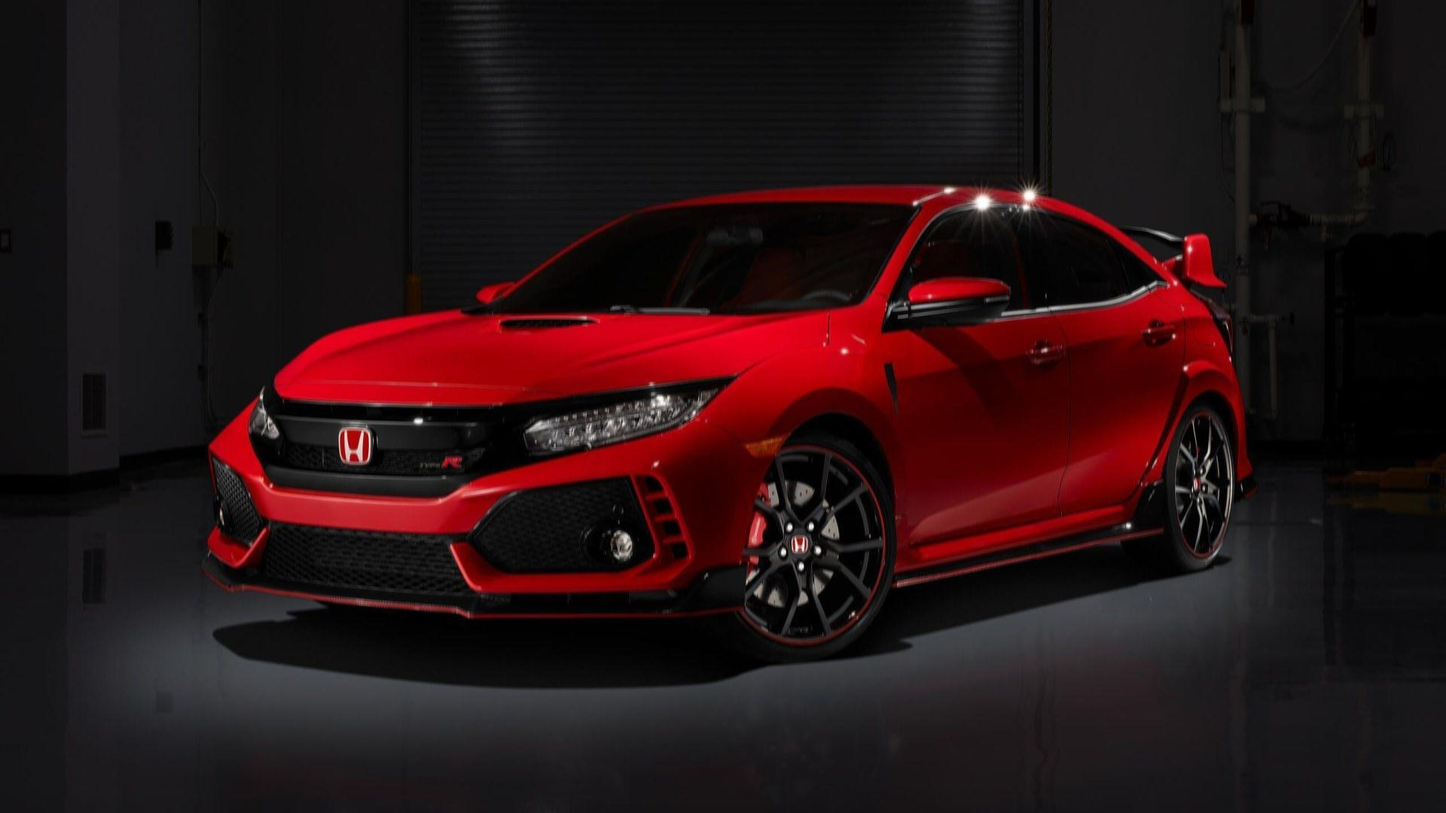Car hood: (267, 300, 836, 412)
Fender - -F-L-: (694, 293, 907, 586)
Fender - -R-L-: (1157, 297, 1237, 517)
Front bumper: (197, 433, 763, 639)
Headlight - -L-: (511, 366, 736, 463)
Headlight - -R-: (241, 383, 294, 448)
Passenger-s door - -F-L-: (907, 189, 1073, 554)
Passenger-s door - -R-L-: (1067, 207, 1189, 527)
Rear bumper: (1219, 405, 1273, 508)
Side bumper - -L-: (886, 476, 1182, 597)
Side mirror - -L-: (874, 267, 1021, 337)
Side mirror - -R-: (466, 267, 533, 312)
